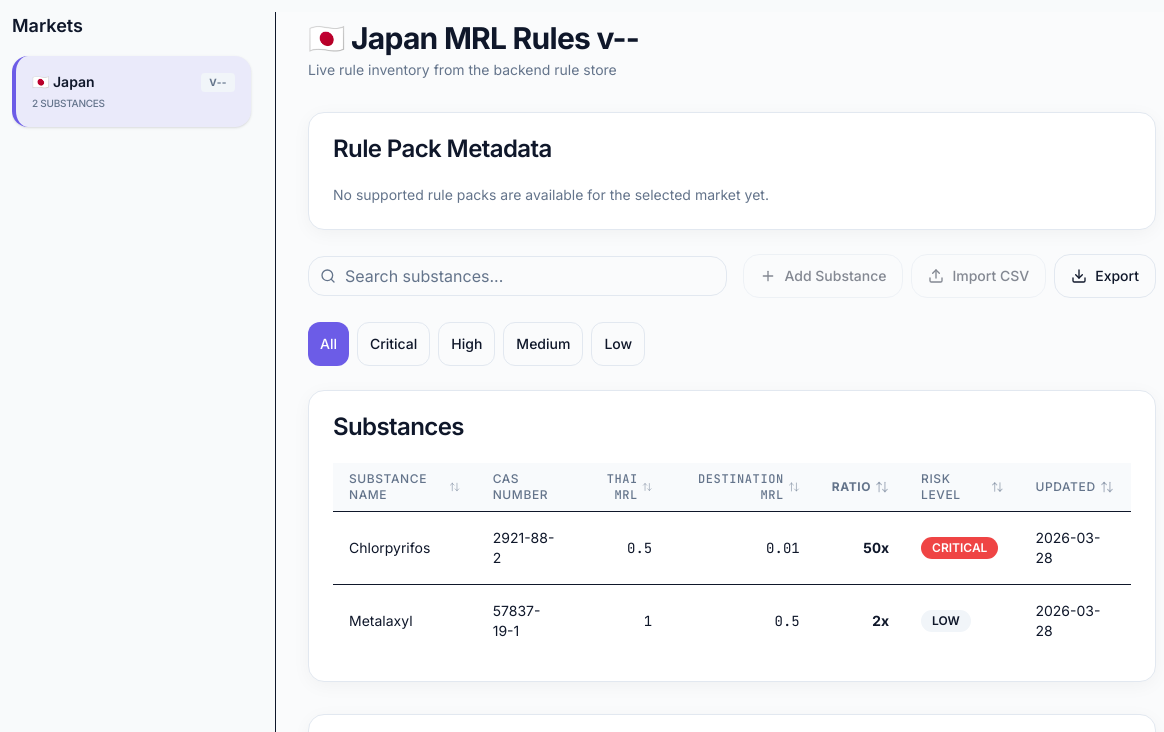
Test: RulesAdminPage › filters substances by search query
Check: the text "Chlorpyrifos" is shown, box left=333, top=511, right=477, bottom=584
Type "Metal" into the field with placeholder "Search substances..." at {"x": 518, "y": 276}, box left=308, top=256, right=727, bottom=296
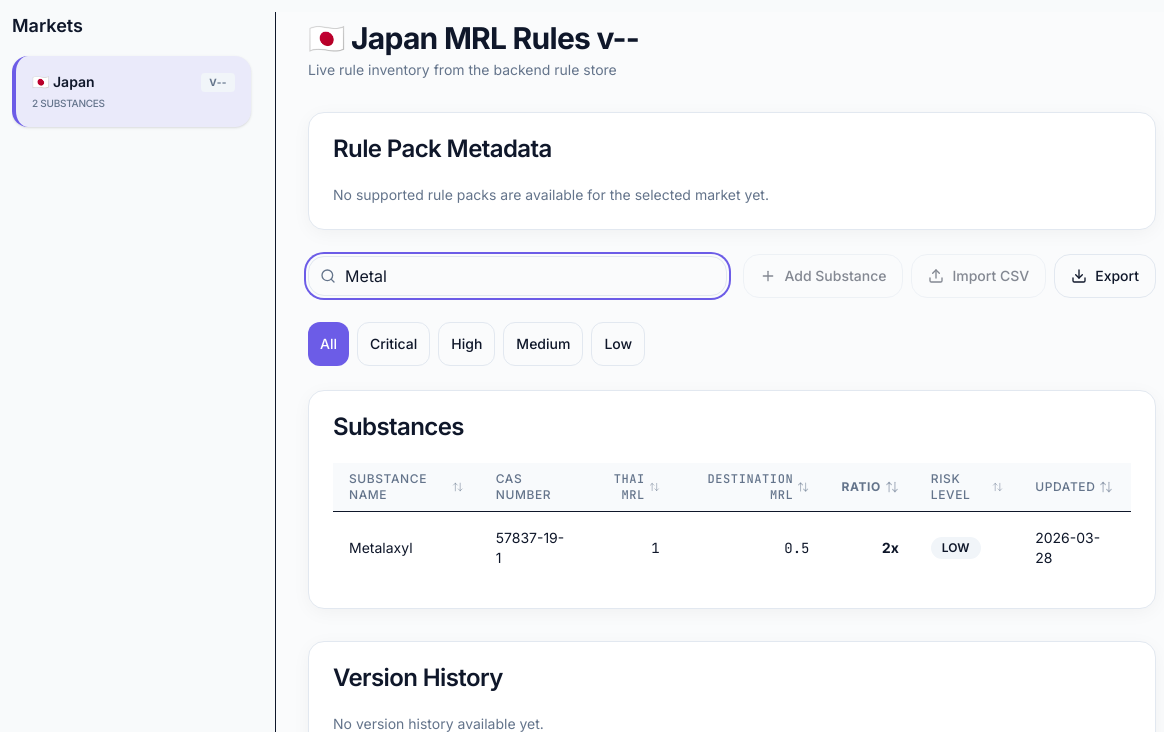
Check: the text "Metalaxyl" is shown, box left=333, top=511, right=480, bottom=584
Check: the text "Chlorpyrifos" is gone
